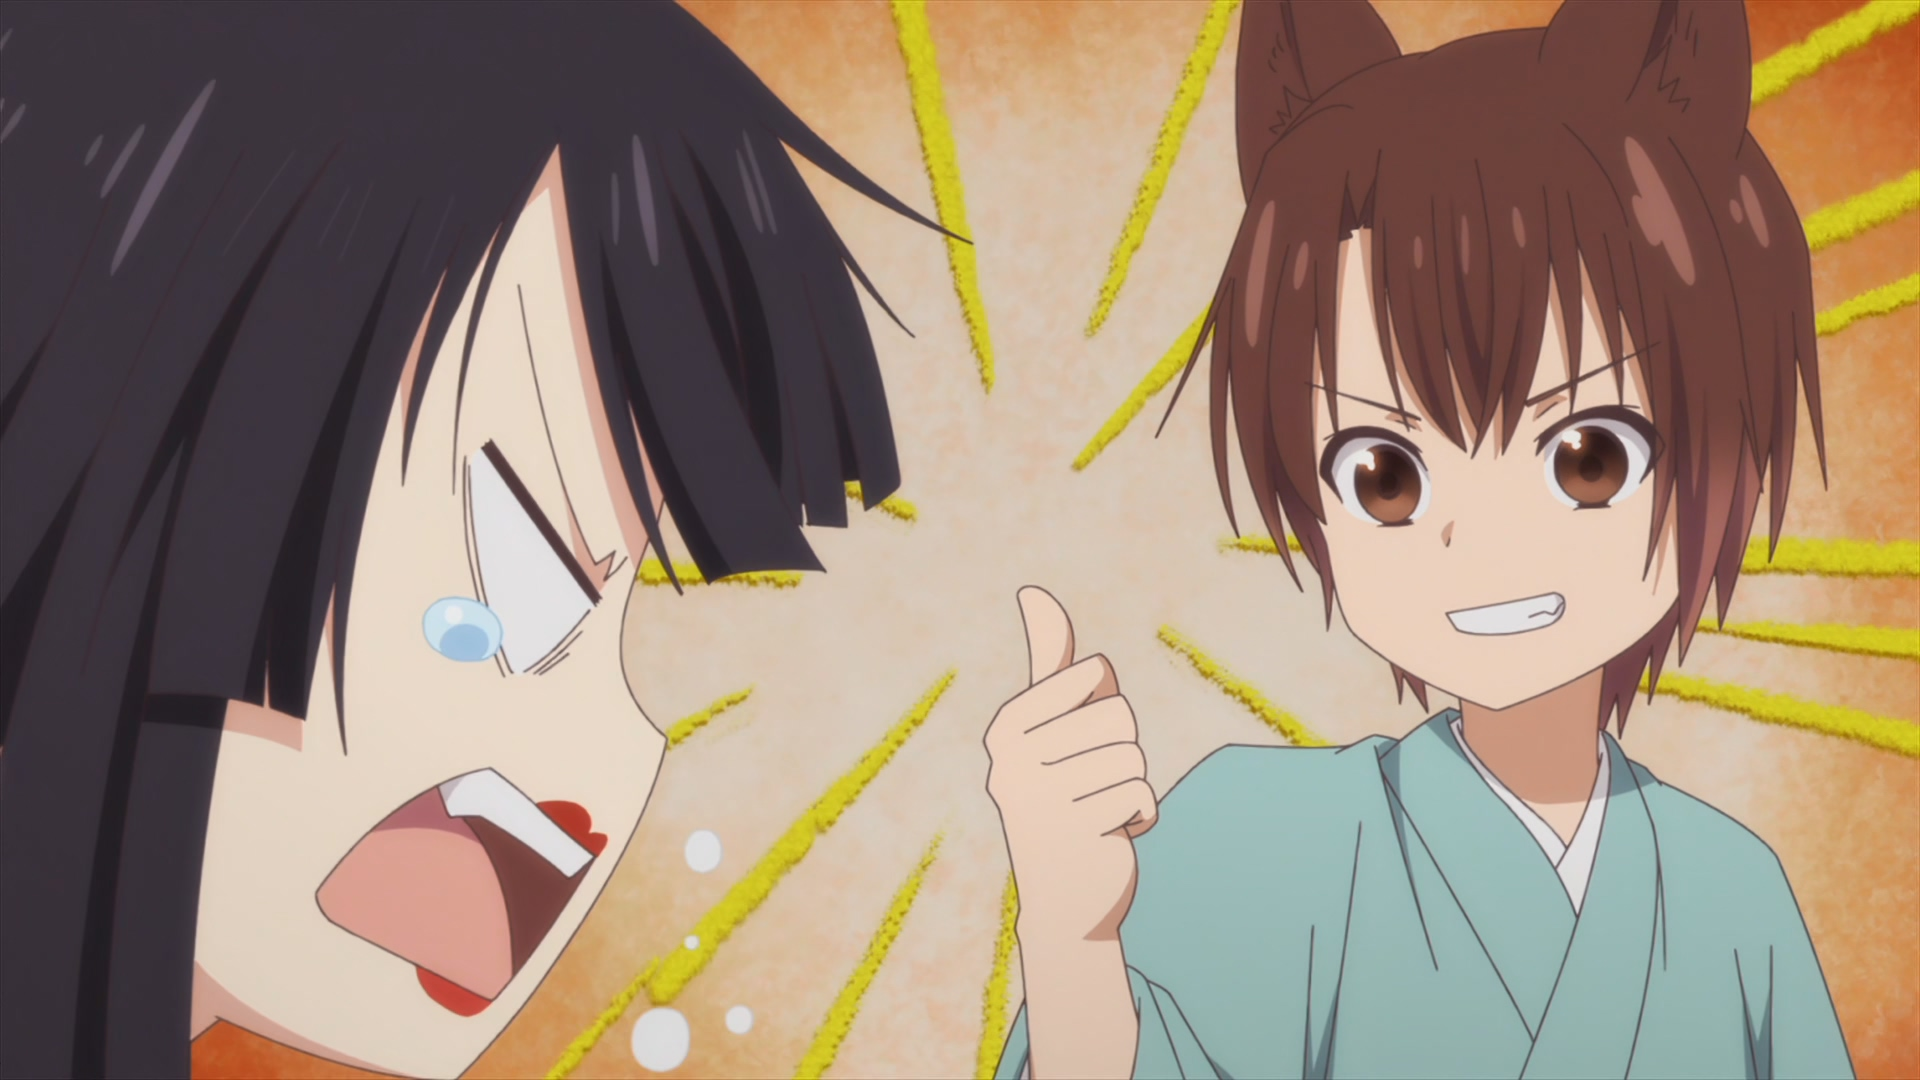枣: (984, 1, 1853, 1080)
阿菊: (1, 1, 975, 1080)
